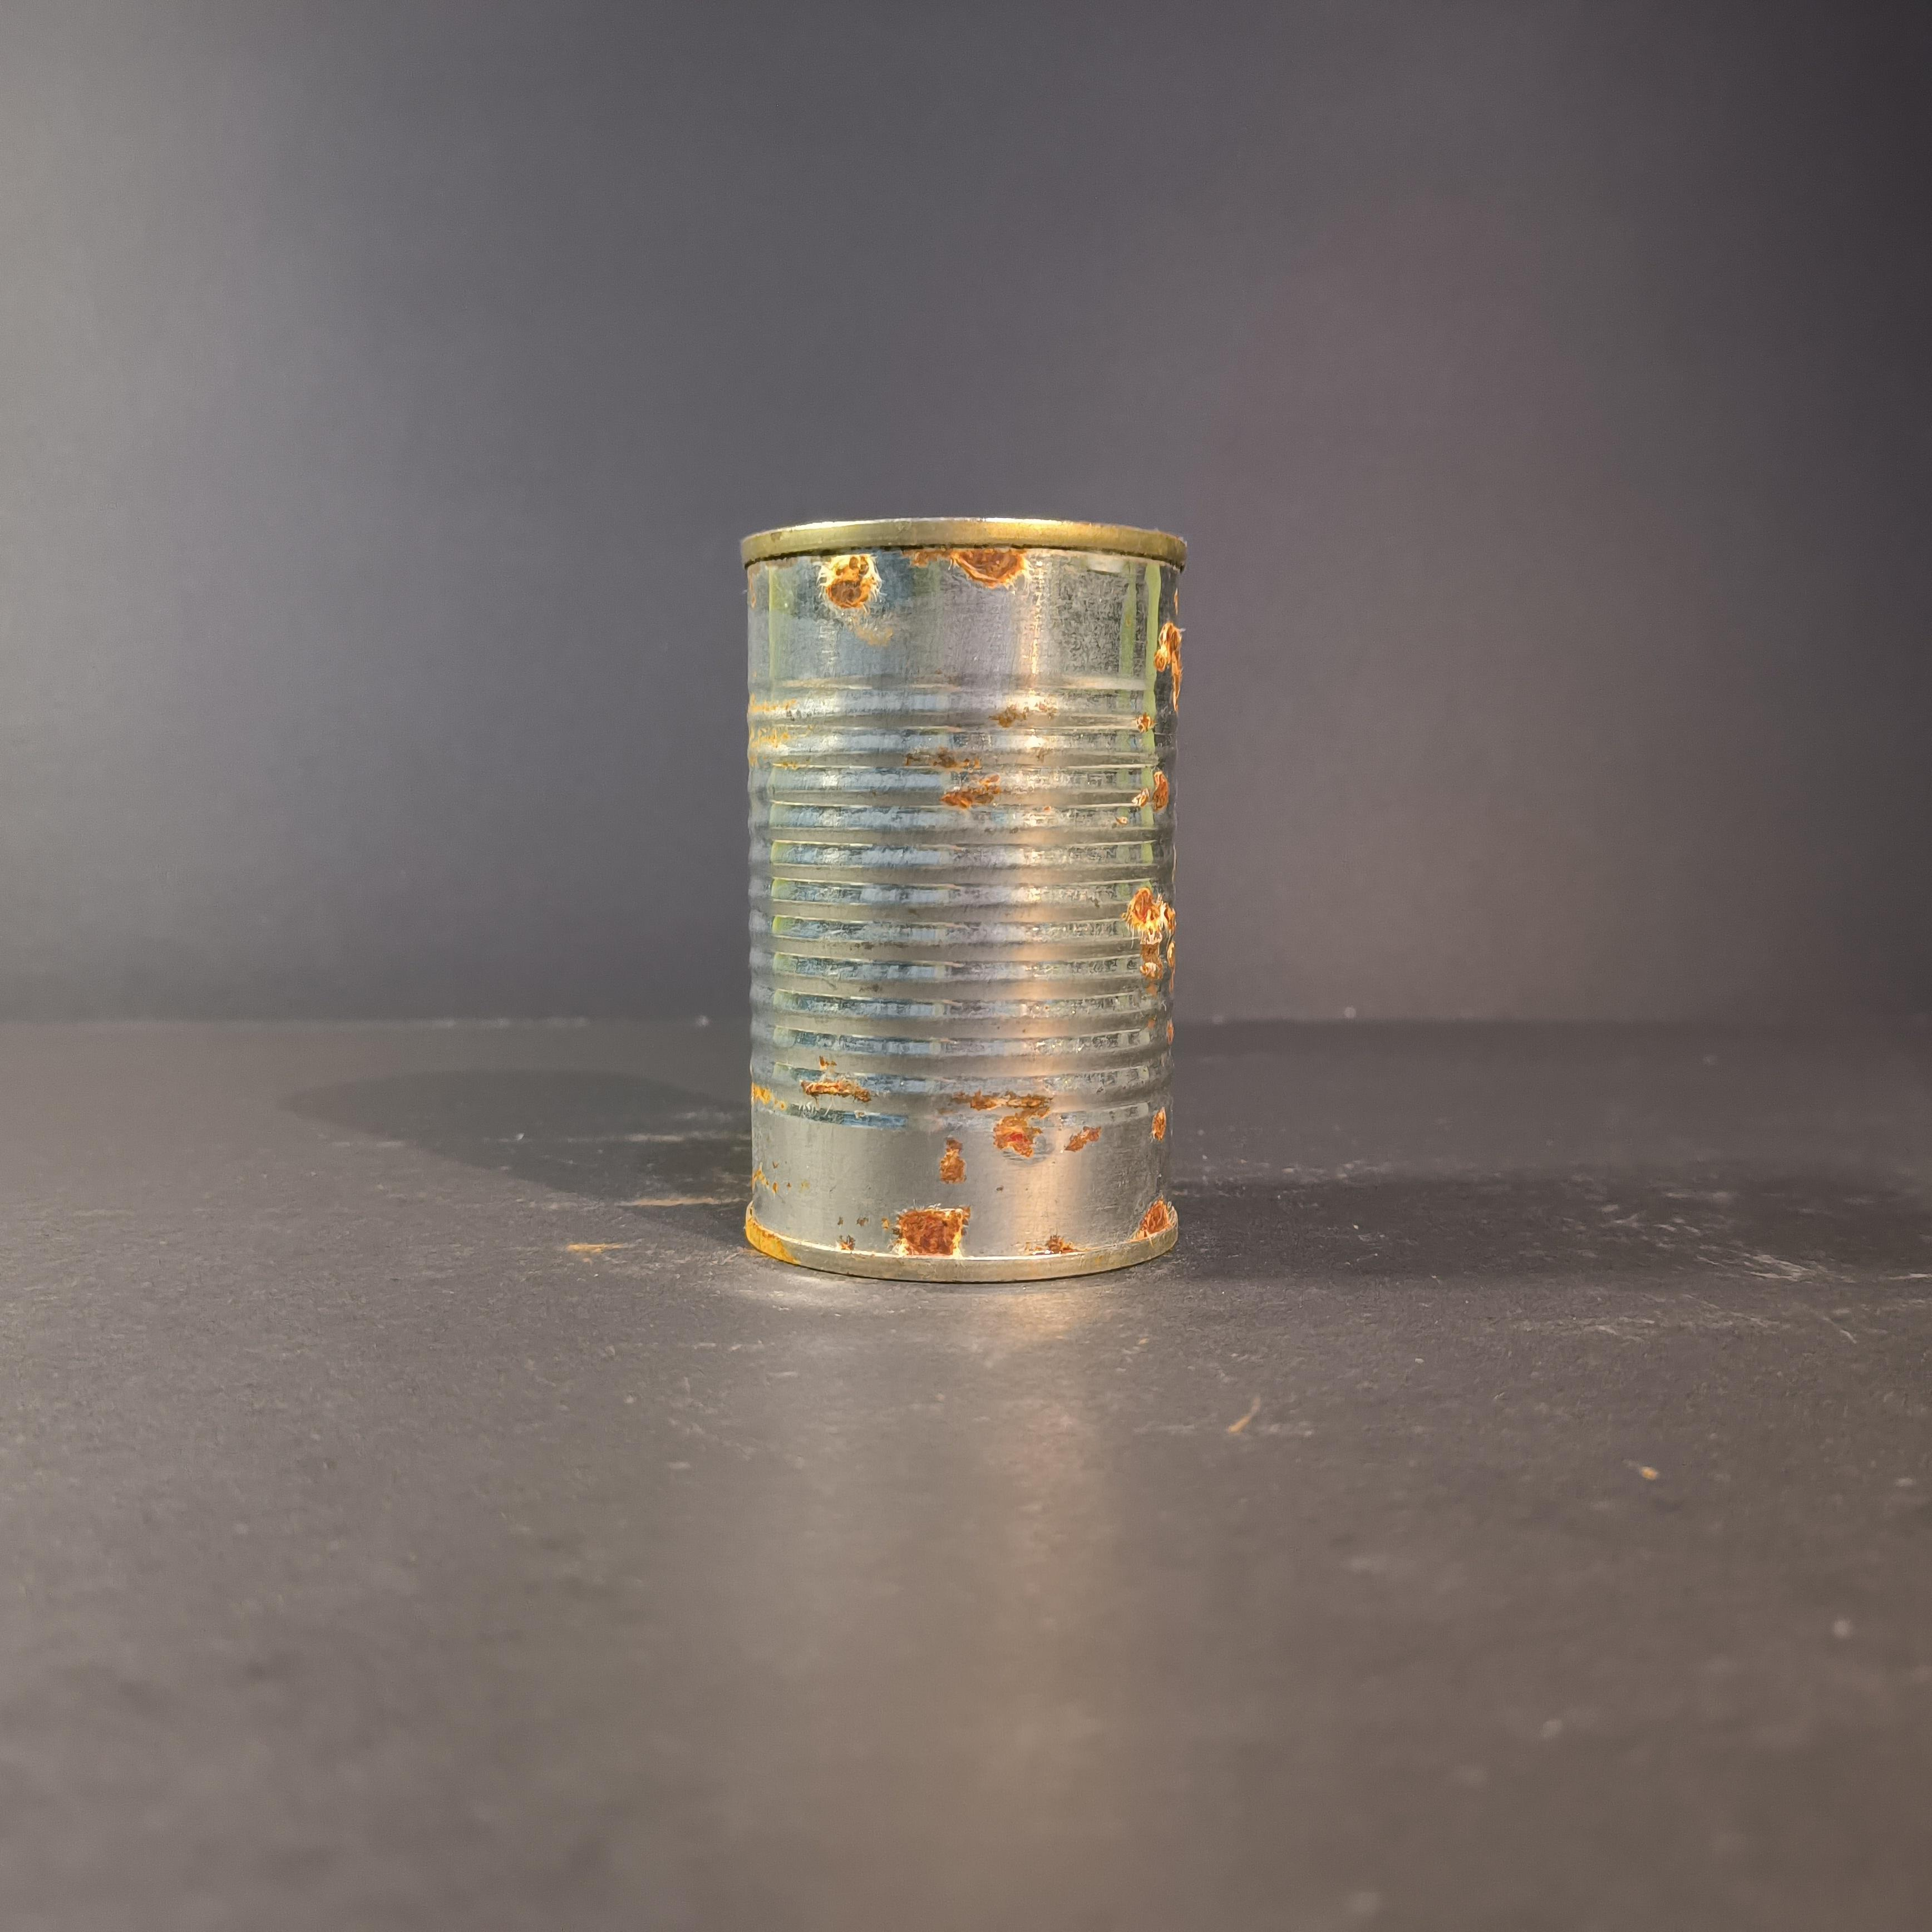Rusted: (704, 501, 1221, 1307)
